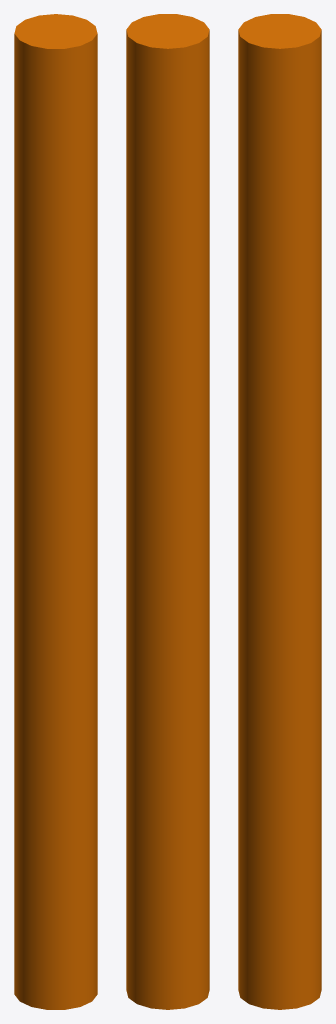
File: bumper.FBX
3 renders of one model, left to right at view 1: azimuth 90°, elevation 25°; view 2: azimuth 150°, elevation 25°; view 3: azimuth 270°, elevation 25°, orthographic.
Parts seen in each view (by area): view 1: bumper001; view 2: bumper001; view 3: bumper001.
Part boxes in pixels (x1,y1,x2,y2): bumper001: [14, 14, 97, 1009]; bumper001: [126, 14, 209, 1009]; bumper001: [238, 14, 321, 1009].
Bounding box in the file's own units: 13.35 × 13.42 × 171.
